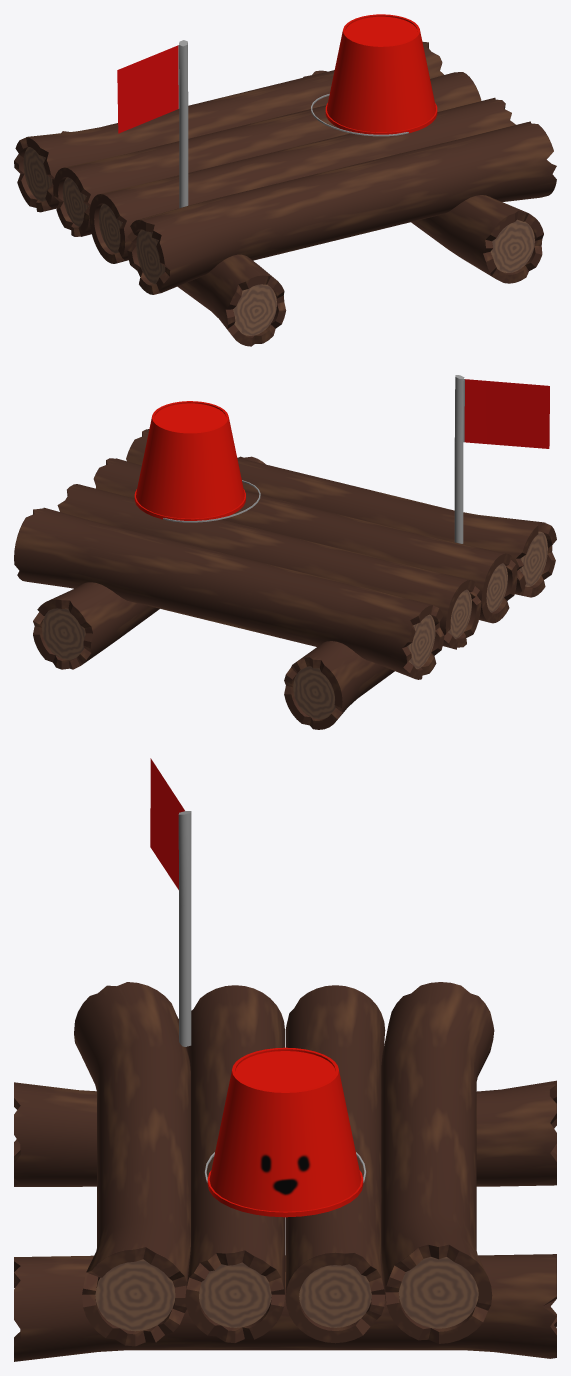
File: rifraft.glb
3 views of the same model, one above another, from view 1: azimuth 30°, elevation 25°; view 2: azimuth 150°, elevation 25°; view 3: azimuth 270°, elevation 25° (orthographic). The views are drawn at different scales.
Parts seen in each view (by area): view 1: logs1, logs2, buckit, flag; view 2: logs1, logs2, buckit, flag; view 3: logs1, logs2, buckit, flag.
Part boxes in pixels (box(x1,y1,x2,y2)): logs1: box(14, 41, 556, 294); logs2: box(61, 70, 543, 346); buckit: box(325, 14, 437, 134); flag: box(117, 40, 188, 208); logs1: box(14, 429, 556, 679); logs2: box(33, 456, 394, 729); buckit: box(134, 401, 245, 520); flag: box(454, 375, 549, 543); logs1: box(74, 982, 494, 1346); logs2: box(14, 1080, 556, 1361); buckit: box(207, 1047, 363, 1217); flag: box(150, 758, 191, 1046).
Size of the model in its own units: 4.03 by 2.43 by 3.29.
6 materials, 3 textured.
